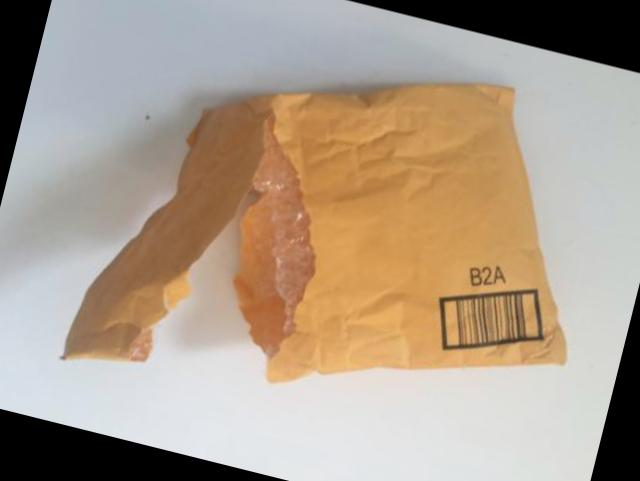cardboard paper: (63, 87, 566, 383)
